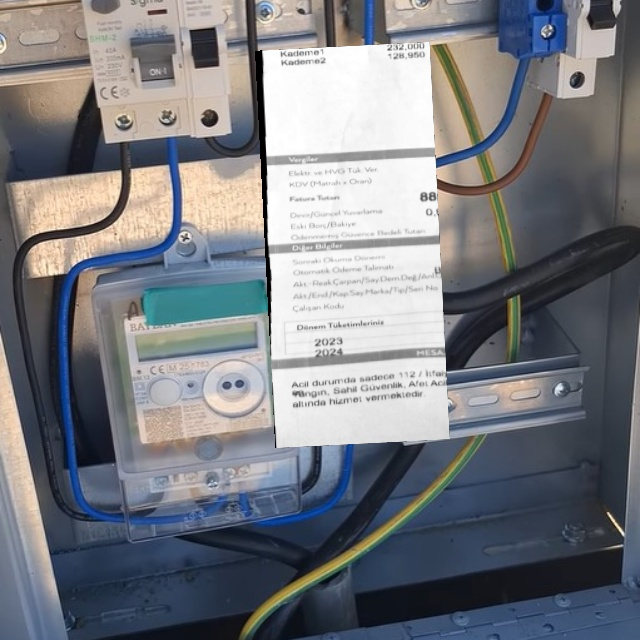electricity-bill: (254, 41, 450, 447)
